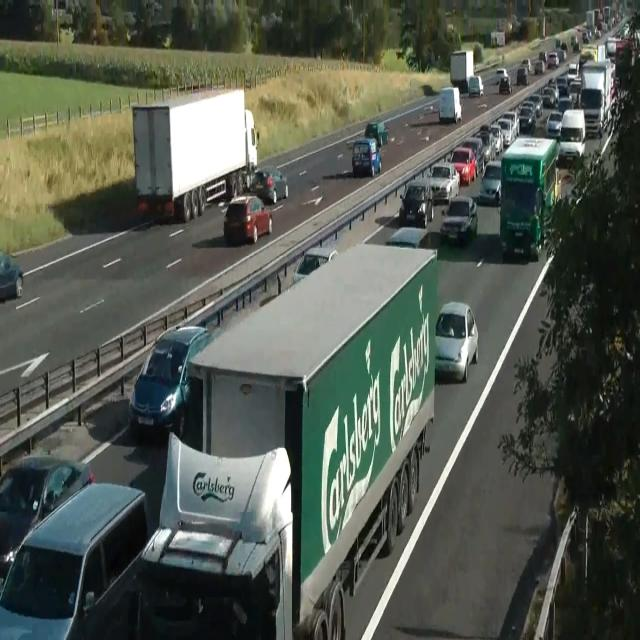bus: (0, 453, 94, 575), (128, 324, 208, 442), (434, 300, 478, 382), (223, 194, 273, 244), (290, 247, 338, 291), (439, 194, 478, 244), (399, 180, 434, 228), (250, 167, 288, 205), (428, 162, 460, 204), (606, 21, 640, 59), (0, 250, 24, 300), (352, 137, 382, 177), (477, 161, 502, 205), (461, 137, 485, 176), (385, 227, 429, 248), (473, 129, 495, 163), (365, 121, 389, 147), (545, 111, 563, 139), (261, 11, 282, 30), (527, 94, 543, 116), (468, 75, 483, 97), (509, 13, 522, 34), (545, 50, 559, 68), (516, 67, 529, 85), (498, 78, 512, 94), (496, 67, 508, 81)
car: (69, 240, 438, 638)
jeep: (395, 28, 626, 254), (0, 480, 148, 638), (557, 108, 585, 166), (446, 146, 476, 185)
minibus: (132, 87, 258, 223), (499, 136, 561, 260), (579, 59, 613, 138), (450, 50, 474, 92), (438, 86, 462, 124), (491, 30, 505, 46)
